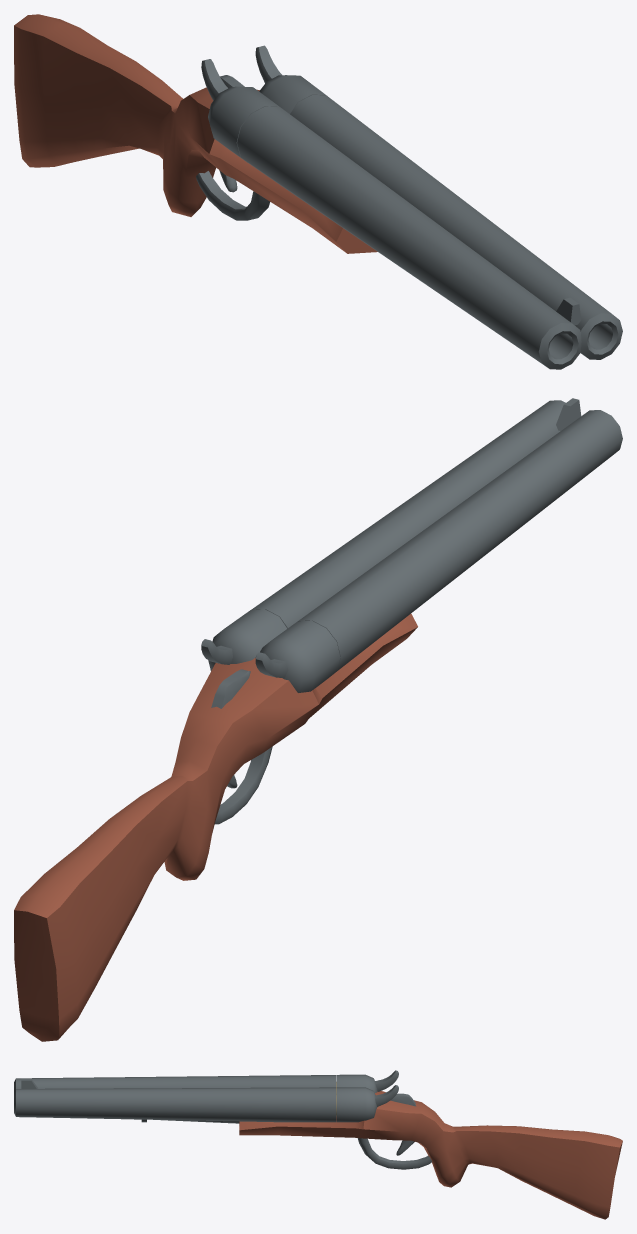
The model's file is shotgun.fbx.
3 renders of one model, top to bottom at view 1: azimuth 30°, elevation 25°; view 2: azimuth 150°, elevation 25°; view 3: azimuth 270°, elevation 25°, orthographic. The views are drawn at different scales.
Visible parts, largest first — view 1: shotgun_barrel, shotgun; view 2: shotgun, shotgun_barrel; view 3: shotgun, shotgun_barrel.
Part boxes in pixels (box(x1,y1,x2,y2)): shotgun_barrel: box(237, 95, 622, 369); shotgun: box(14, 14, 377, 253); shotgun: box(14, 609, 417, 1041); shotgun_barrel: box(251, 398, 622, 670); shotgun: box(239, 1070, 622, 1219); shotgun_barrel: box(14, 1075, 336, 1123).
Bounding box in the file's own units: 0.2304 × 0.5102 × 2.02.
